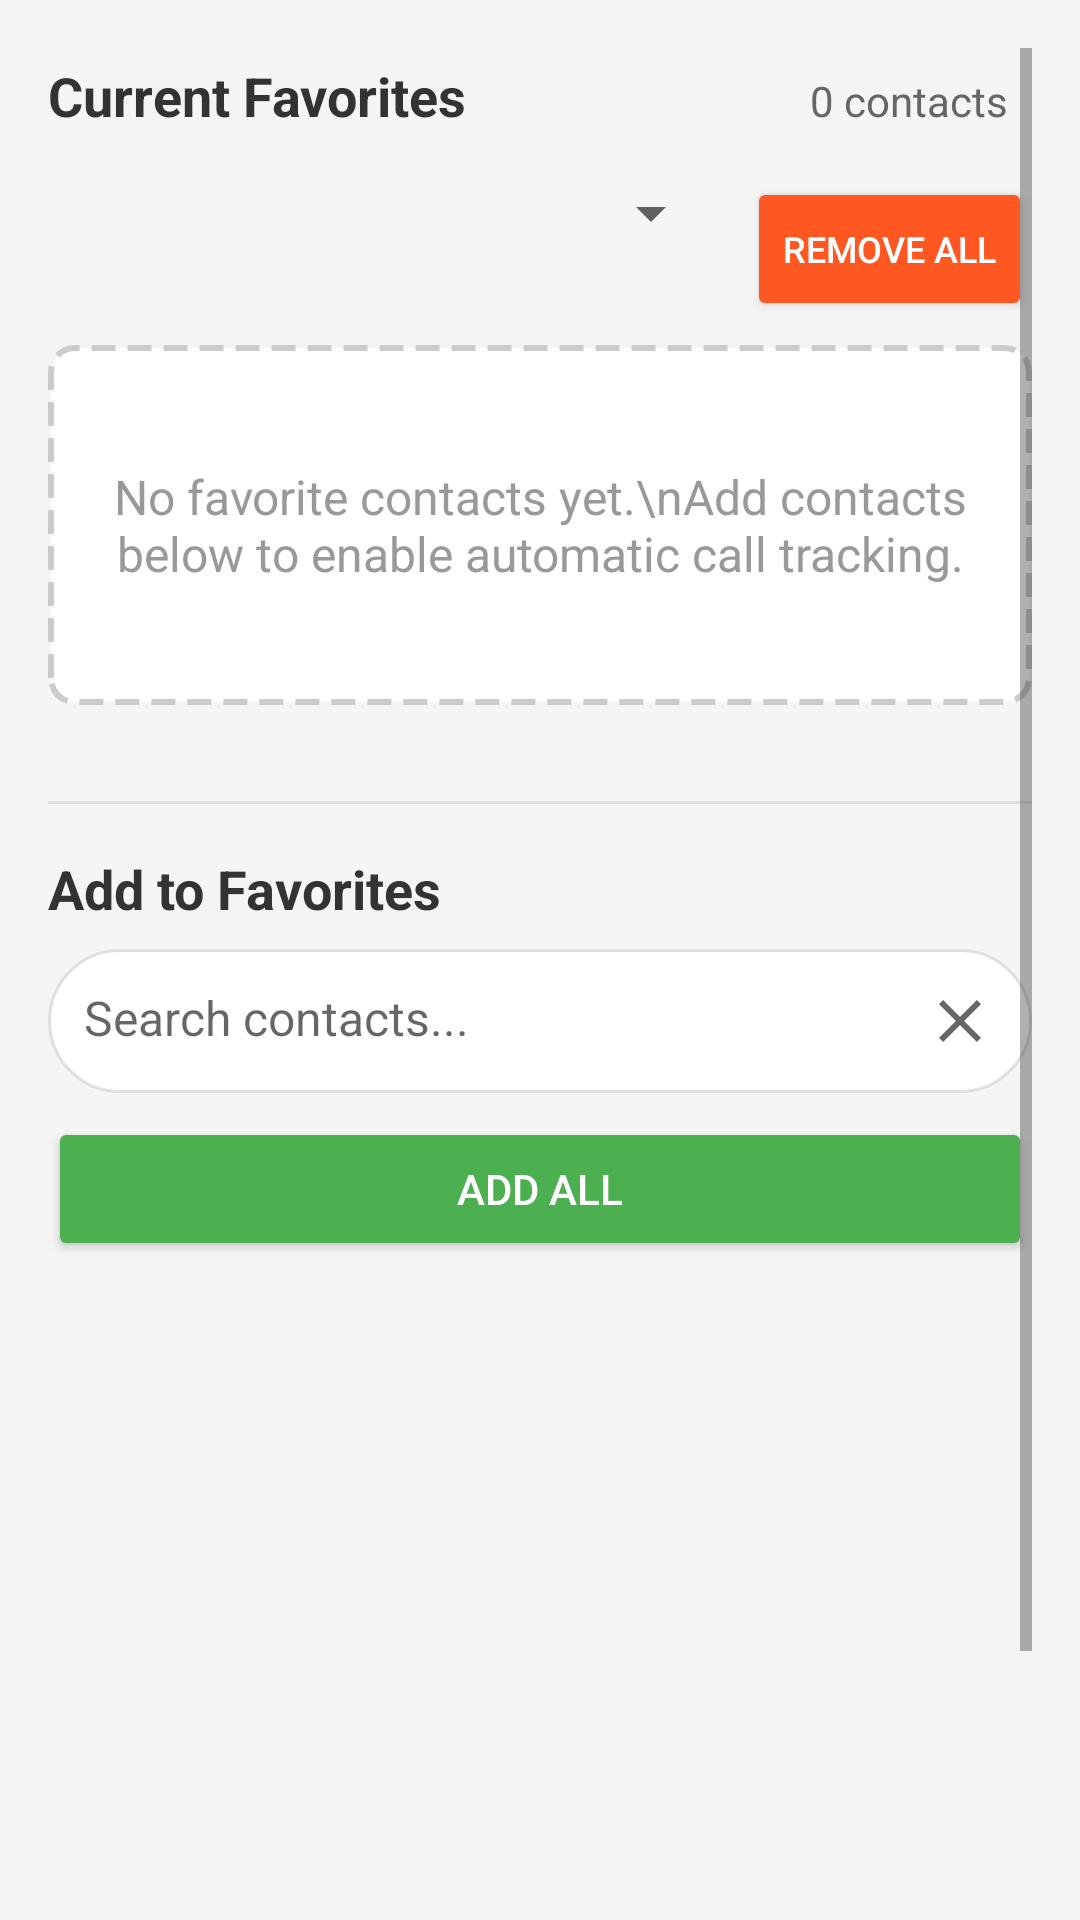

Screen size 1080px×1920px. Icon name, then its center in pixels as point (x, y):
Clear search: point (960, 1021)
